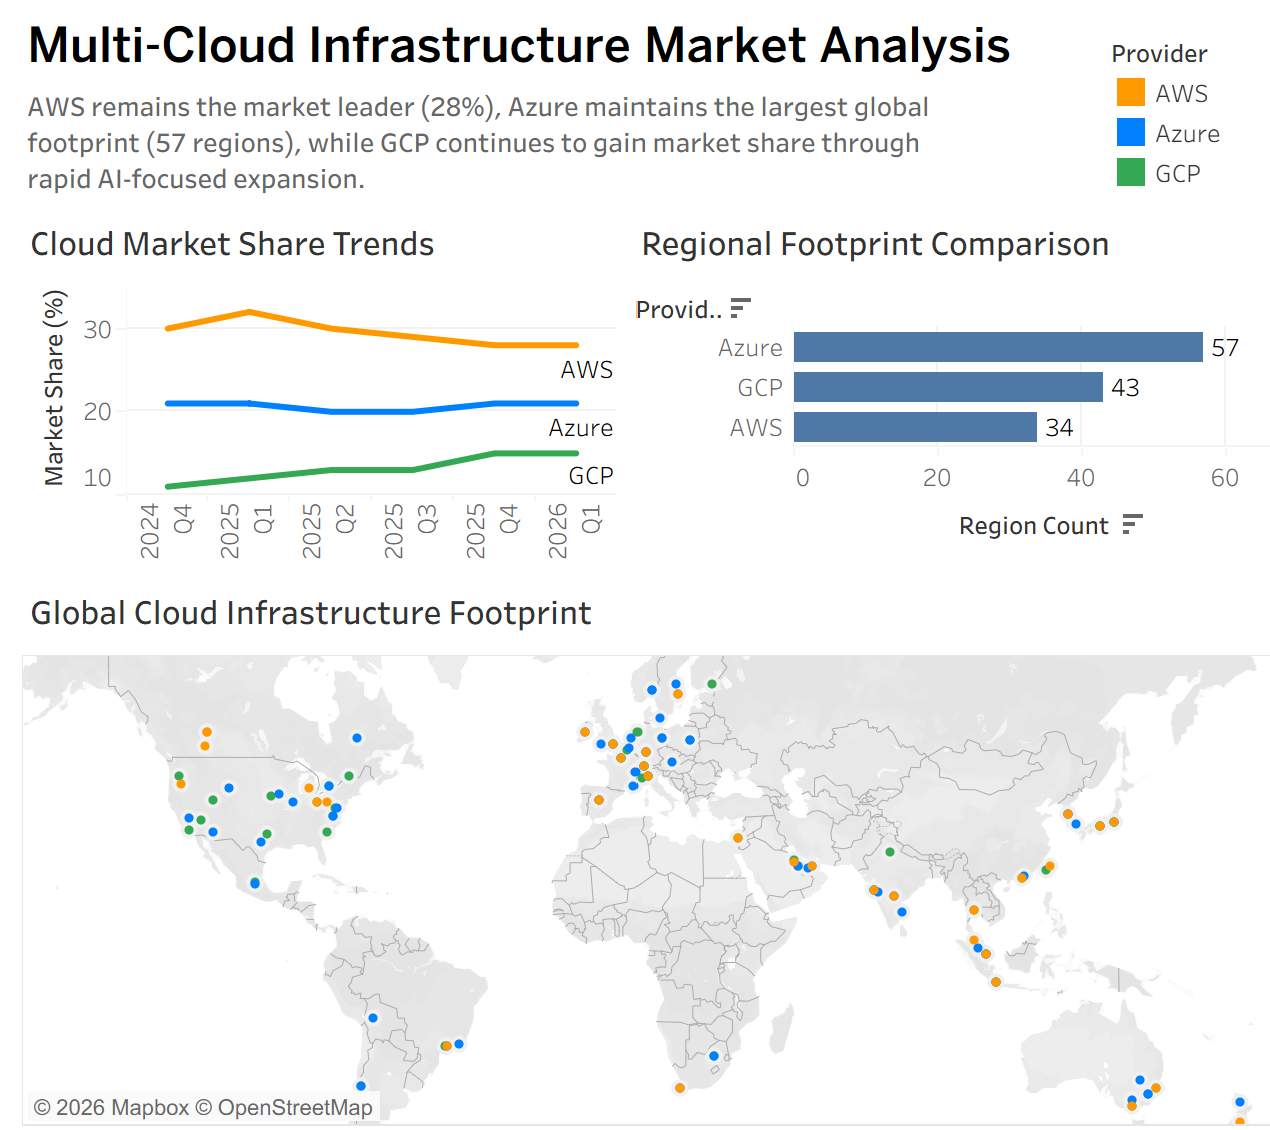

The dashboard page shown, as its layout file describes it:
{"tool":"tableau","page":{"name":"Dashboard 1","canvas":[650,860],"ordinal":0},"visuals":[{"type":"text","box":[8,11.9,634,50.7]},{"type":"legend","title":"Sheet 1","param":"[federated.101c94x0bro8791ex66vg08otxfu].[none:provider:nk]","box":[556,29.8,90,135.6]},{"type":"text","box":[8,62.6,634,92.4]},{"type":"worksheet","title":"Sheet 1","mark":"Line","cols":["year_quarter"],"box":[8,155,305,274.2]},{"type":"worksheet","title":"Sheet 3","mark":"Automatic","rows":["provider"],"cols":["region_count"],"box":[313,155,329,274.2]},{"type":"worksheet","title":"Sheet 2","mark":"Automatic","rows":["latitude"],"cols":["longitude"],"box":[8,429.2,634,418.8]}]}

Visuals, with their boxes on the page's 650x860 design canvas (x1, y1, x2, y2). These are canvas units, not pixel positions in the 1270x1130 screenshot, which may show the page scaled, cropped or inside an application window:
text: Rect(8, 12, 642, 63)
"Sheet 1" legend: Rect(556, 30, 646, 165)
text: Rect(8, 63, 642, 155)
"Sheet 1" worksheet (Line marks): Rect(8, 155, 313, 429)
"Sheet 3" worksheet: Rect(313, 155, 642, 429)
"Sheet 2" worksheet: Rect(8, 429, 642, 848)
